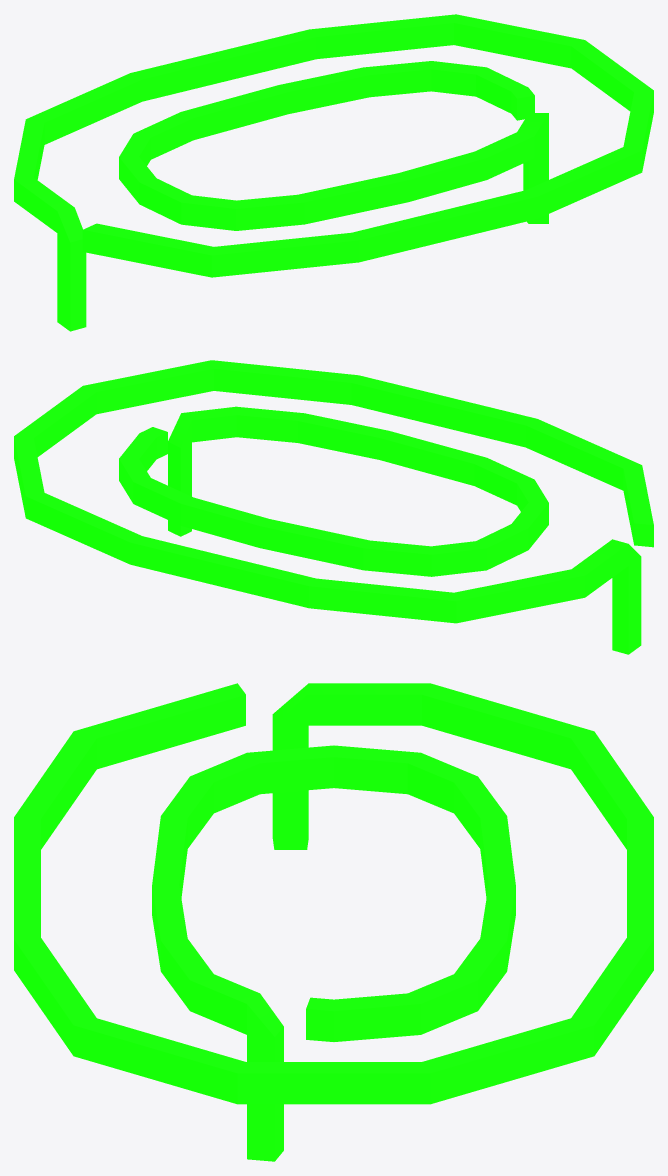
The model's file is Number_3D_04_0.FBX.
3 renders of one model, top to bottom at view 1: azimuth 30°, elevation 25°; view 2: azimuth 150°, elevation 25°; view 3: azimuth 270°, elevation 25°, orthographic. The views are drawn at different scales.
Visible parts, largest first — view 1: Number_3D_04_0; view 2: Number_3D_04_0; view 3: Number_3D_04_0.
Part boxes in pixels (bbox=[...]): Number_3D_04_0: bbox=[14, 14, 653, 331]; Number_3D_04_0: bbox=[14, 360, 653, 654]; Number_3D_04_0: bbox=[14, 683, 653, 1161].
Size of the model in its own units: 68.03 by 12.63 by 47.15.
